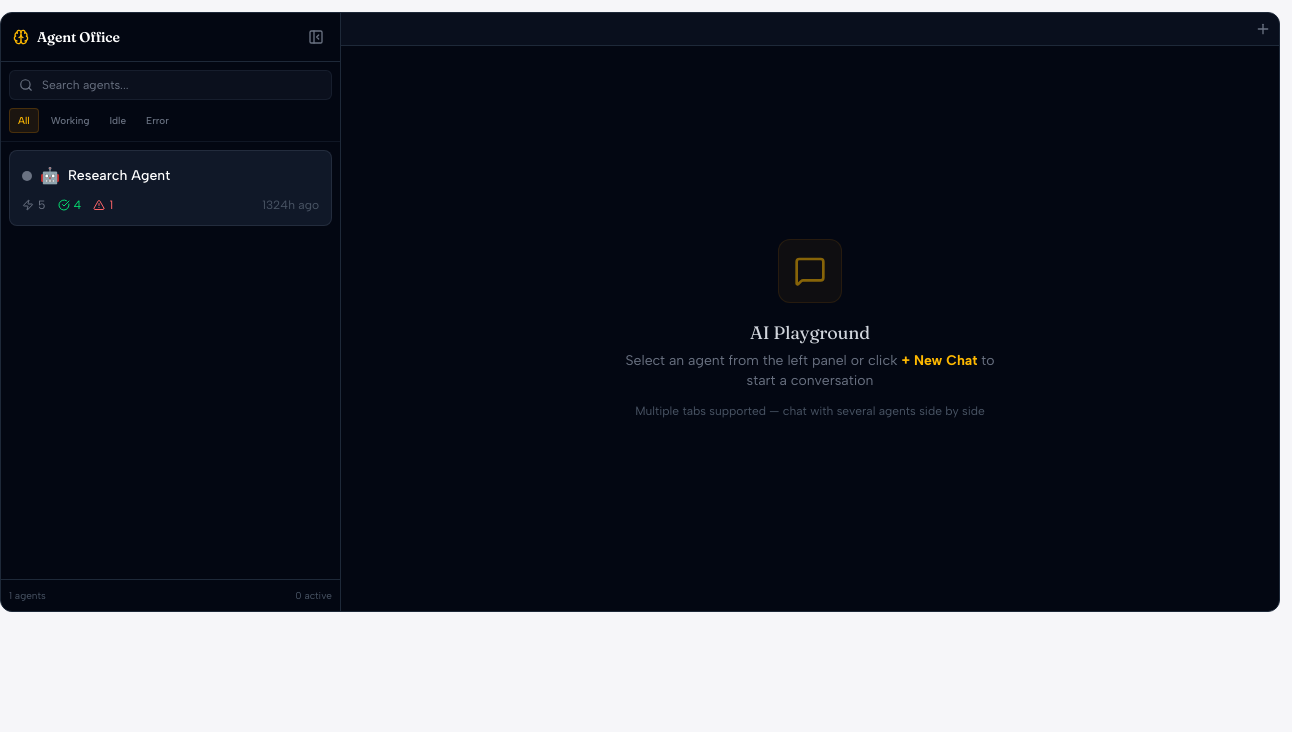
Test: CommandCenter â€” sidebar and filters › filters agents by search text and status
This screenshot has width=1292, height=732.
Expected: the text "Research Agent" is shown, [68,166,170,186]
// Search filters out the agent
Step 1. Type "zzz" into the field with placeholder "Search agents..." → point(170, 85), box [9,70,332,100]
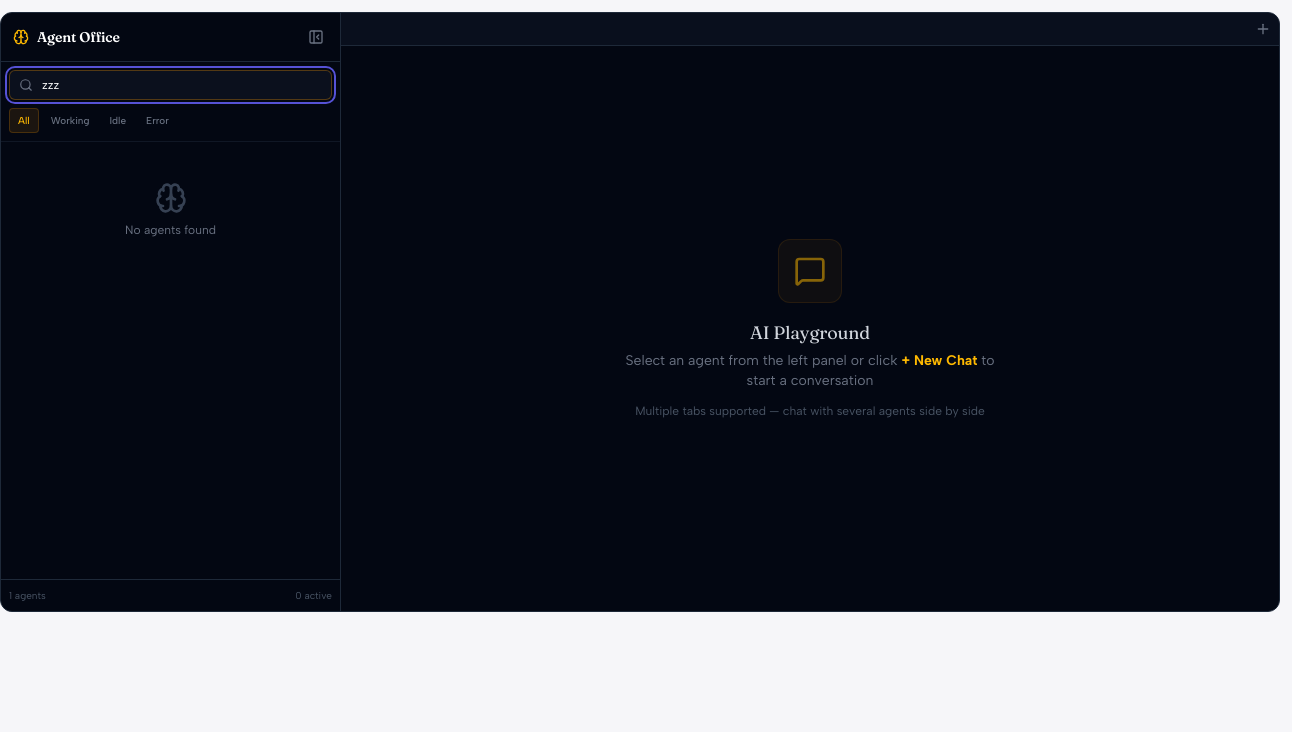
Result: the text "No agents found" is shown at [125,223,216,237]
Step 2. Clear the field with placeholder "Search agents..." → point(170, 85), box [9,70,332,100]
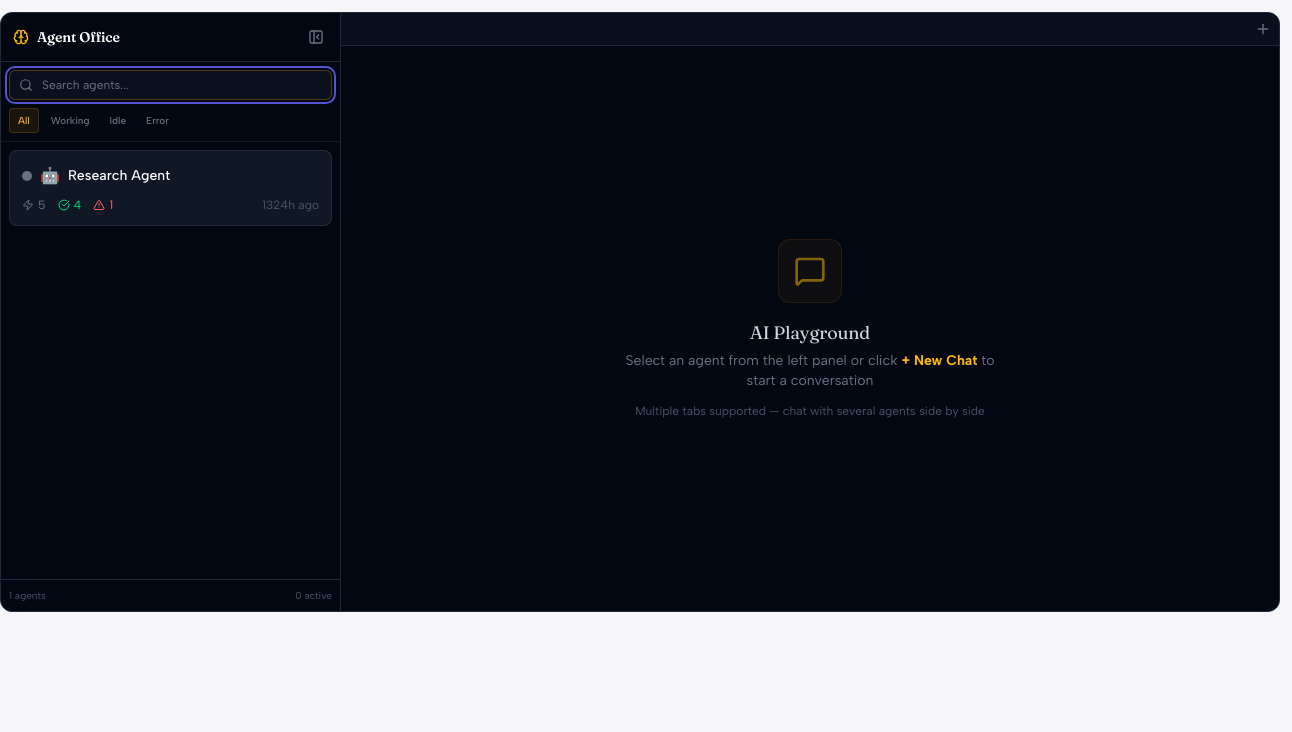
Result: the text "Research Agent" is shown at [68,166,170,186]
// Status filter: agent is idle, so "Working" hides it
Step 3. Click the button "Working" → point(70, 120), box [43,108,98,133]
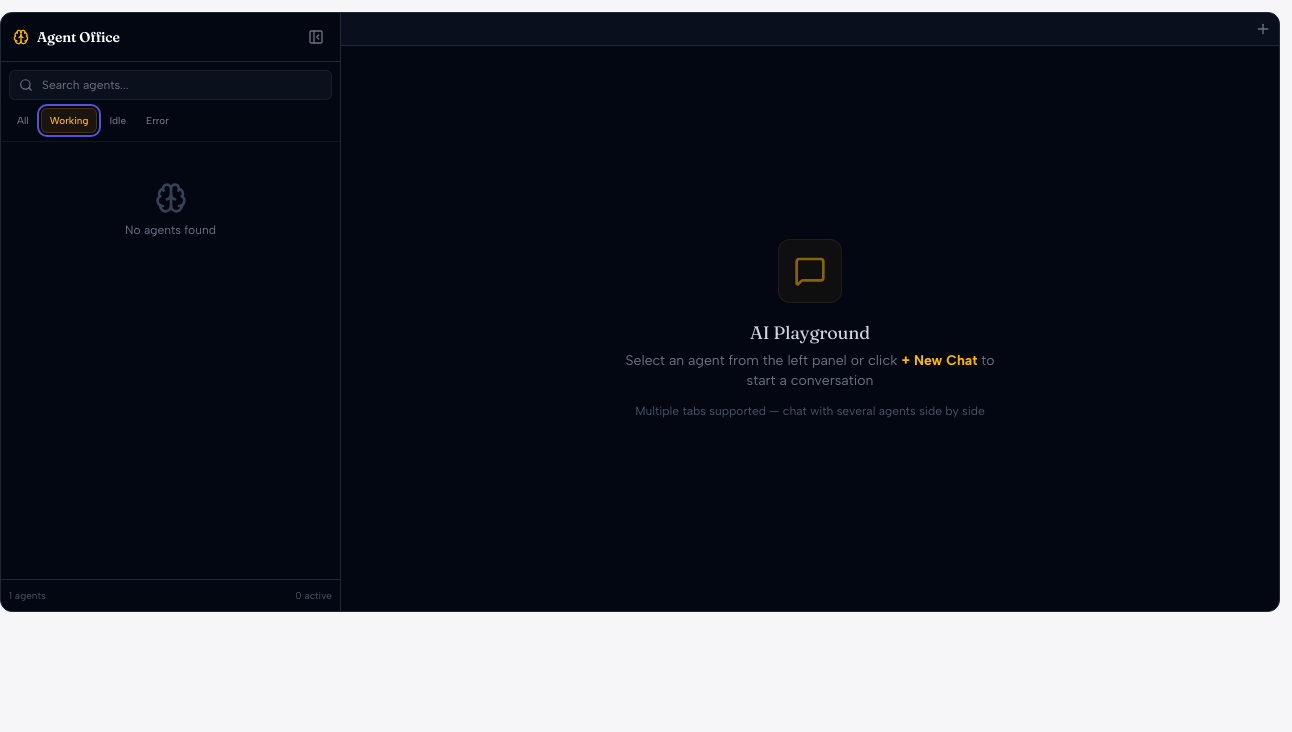
Result: the text "No agents found" is shown at [125,223,216,237]
